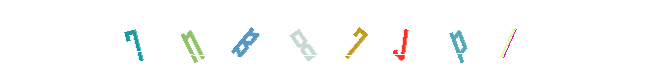7: (93, 0, 173, 80), (311, 0, 391, 80)
8: (295, 0, 375, 80)
B: (286, 0, 366, 80)
I: (469, 0, 549, 80)
J: (317, 0, 397, 80)
N: (169, 0, 249, 80)
P: (362, 0, 442, 80)
